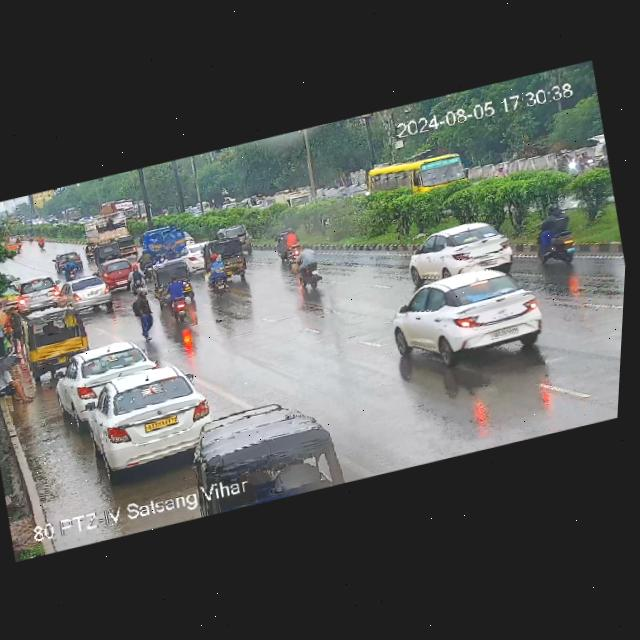bus: (357, 136, 471, 214), (57, 203, 83, 229)
car: (380, 257, 554, 384), (84, 365, 211, 482), (395, 210, 523, 294), (50, 333, 168, 411), (57, 269, 115, 315), (62, 268, 115, 309), (14, 274, 63, 314), (98, 256, 135, 292), (179, 242, 208, 274), (51, 249, 84, 274), (337, 182, 371, 203)
motorcycle: (546, 139, 601, 183), (161, 272, 196, 325), (293, 242, 327, 295), (203, 250, 234, 297), (276, 227, 301, 262), (125, 261, 151, 294), (61, 257, 79, 282), (80, 239, 96, 265), (34, 231, 46, 252), (24, 230, 35, 243)
person: (0, 353, 41, 411), (129, 288, 161, 341), (2, 302, 27, 354), (0, 309, 10, 358)
truck: (82, 210, 130, 245), (95, 193, 142, 225), (273, 182, 316, 213)
